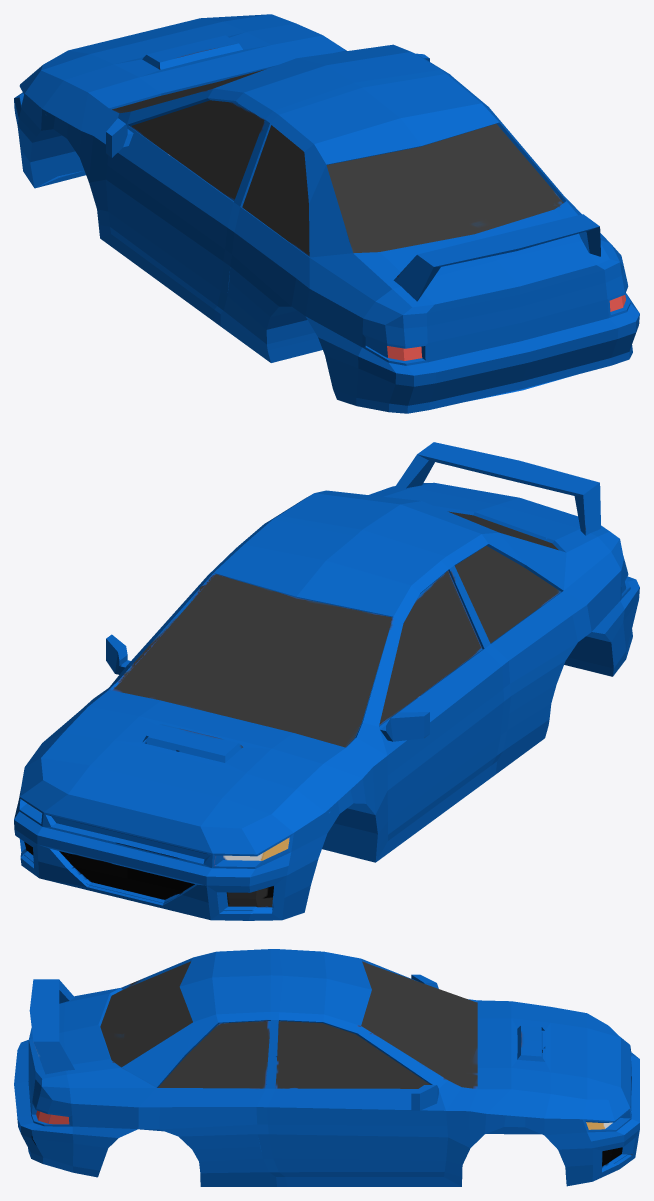
File: IMPREZABody6.fbx
3 renders of one model, top to bottom at view 1: azimuth 30°, elevation 25°; view 2: azimuth 150°, elevation 25°; view 3: azimuth 270°, elevation 25°, orthographic. The views are drawn at different scales.
Parts seen in each view (by area): view 1: 平面.007; view 2: 平面.007; view 3: 平面.007.
Part boxes in pixels (x1,y1,x2,y2): 平面.007: (14, 14, 639, 413); 平面.007: (14, 442, 639, 920); 平面.007: (14, 949, 639, 1186).
Bounding box in the file's own units: 147 × 92.27 × 326.
1 material, 1 textured.
